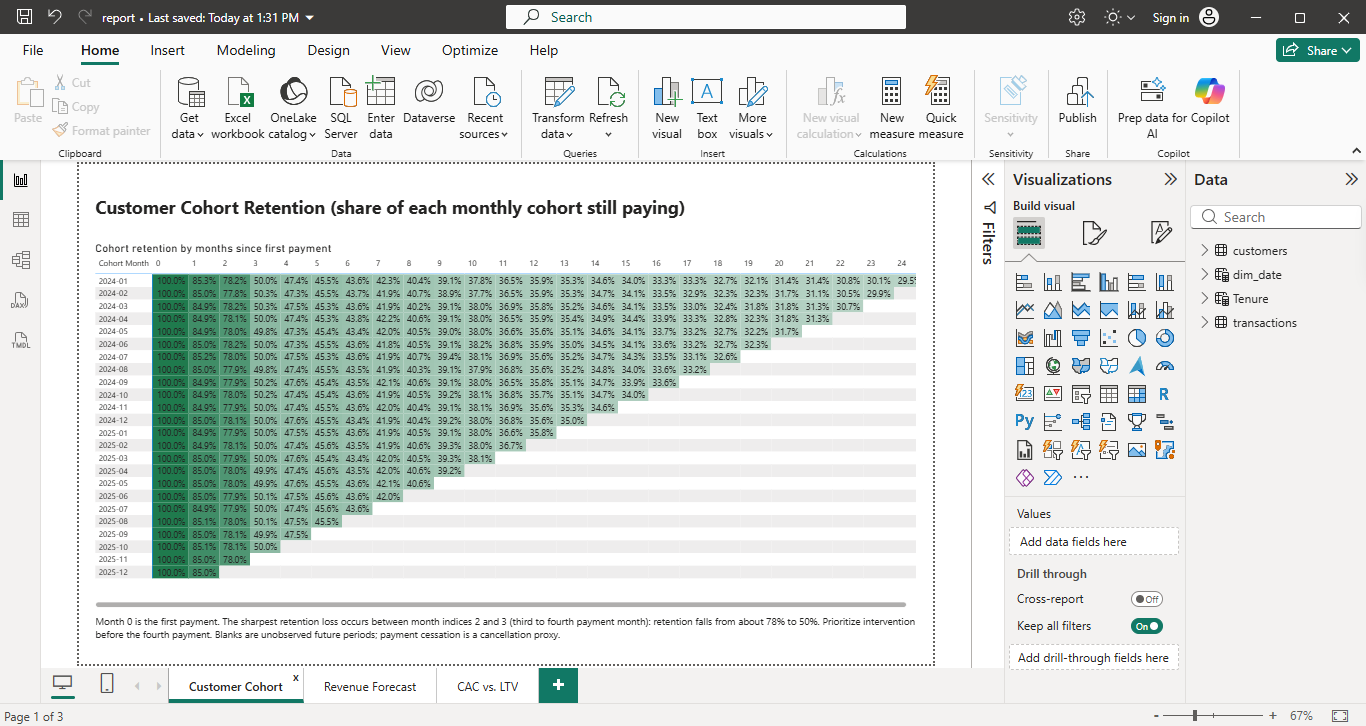

The page's visual inventory and layout, read from the dashboard file:
{"tool":"powerbi","page":{"name":"Customer Cohort","canvas":[1280,720],"ordinal":0},"visuals":[{"type":"textbox","box":[20,10,1240,50],"z":0},{"type":"pivotTable","title":"Cohort retention by months since first payment","fields":{"Columns":["Tenure.Value"],"Rows":["customers.Cohort Month"],"Values":["transactions.Retention Rate"]},"box":[19.5,85.5,1240.5,555],"z":1},{"type":"textbox","box":[20,640,1240,70],"z":2}]}

Visuals, with their boxes on the page's 1280x720 design canvas (x1, y1, x2, y2). These are canvas units, not pixel positions in the 1366x726 screenshot, which may show the page scaled, cropped or inside an application window:
textbox: BBox(20, 10, 1260, 60)
"Cohort retention by months since first payment" pivotTable: BBox(20, 86, 1260, 640)
textbox: BBox(20, 640, 1260, 710)
